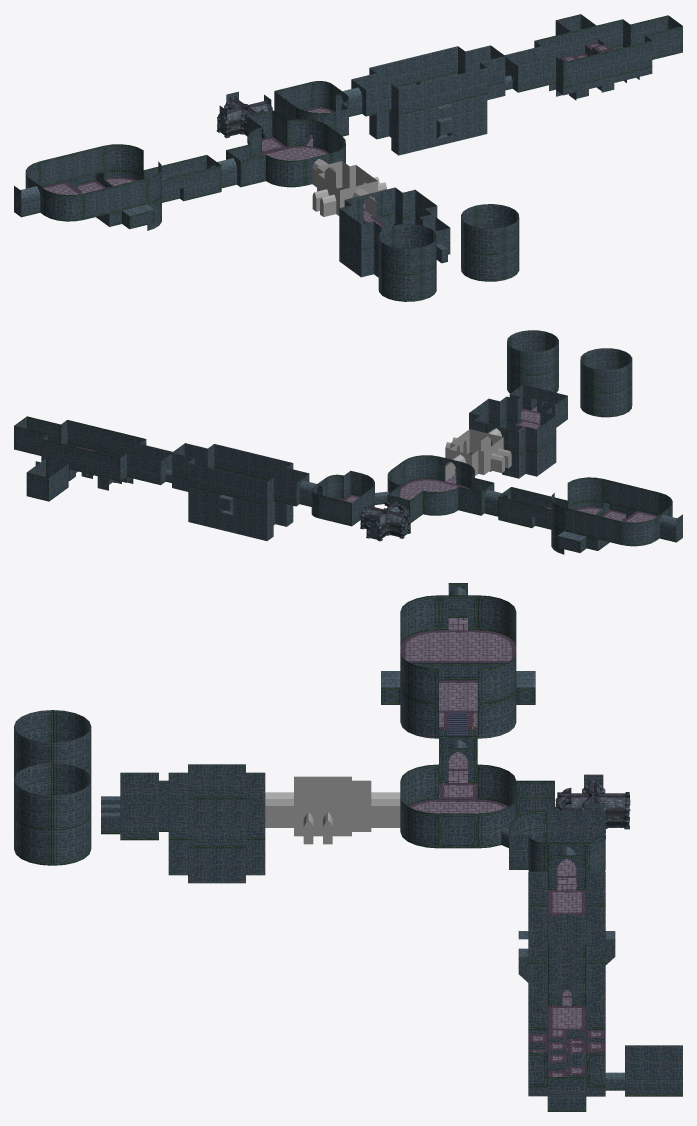
File: DungeonRoom_Mesh.fbx
3 renders of one model, top to bottom at view 1: azimuth 30°, elevation 25°; view 2: azimuth 150°, elevation 25°; view 3: azimuth 270°, elevation 25°, orthographic. The views are drawn at different scales.
Parts seen in each view (by area): view 1: room18_wall01, room20_wall01, room19_wall01, room14_wall01, room16_wall01, rewardRoom02_wall01, rewardRoom01_wall01, room15_wall01, room17_wall01, room14_Cross, room14_floor01, room20_floor01; view 2: room18_wall01, room20_wall01, room19_wall01, room16_wall01, room14_wall01, rewardRoom02_wall01, rewardRoom01_wall01, room17_wall01, room15_wall01, room14_Cross, room14_floor01, room20_floor01 (+1 smaller); view 3: room16_wall01, room20_wall01, room19_wall01, room18_wall01, room14_wall01, rewardRoom01_wall01, room15_wall01, room20_floor01, room17_wall01, rewardRoom02_wall01, room19_floor01, room14_Cross (+2 smaller).
Part boxes in pixels (x1,y1,x2,y2): room18_wall01: (336,45,512,155); room20_wall01: (14,144,236,230); room19_wall01: (504,14,682,100); room14_wall01: (226,110,345,187); room16_wall01: (339,187,450,277); rewardRoom02_wall01: (378,224,436,301); rewardRoom01_wall01: (461,204,519,281); room15_wall01: (312,158,386,218); room17_wall01: (274,81,348,145); room14_Cross: (216,96,272,139); room14_floor01: (252,136,328,178); room20_floor01: (42,177,169,194); room18_wall01: (165,443,322,540); room20_wall01: (484,477,682,554); room19_wall01: (14,416,172,501); room16_wall01: (469,384,567,478); room14_wall01: (387,455,494,522); rewardRoom02_wall01: (580,348,632,417); rewardRoom01_wall01: (507,330,558,393); room17_wall01: (311,470,388,526); room15_wall01: (445,428,511,480); room14_Cross: (360,501,410,541); room14_floor01: (400,479,470,500); room20_floor01: (544,507,657,522); room16_wall01: (101,764,265,883); room20_wall01: (381,583,535,747); room19_wall01: (528,970,682,1111); room18_wall01: (518,846,615,995); room14_wall01: (400,748,554,848); rewardRoom01_wall01: (14,763,91,865); room15_wall01: (265,776,400,844); room20_floor01: (400,618,516,782); room17_wall01: (501,810,605,871); rewardRoom02_wall01: (14,710,91,778); room19_floor01: (528,997,605,1076); room14_Cross: (555,779,630,838).
Size of the model in its own units: 220 by 28 by 138.
